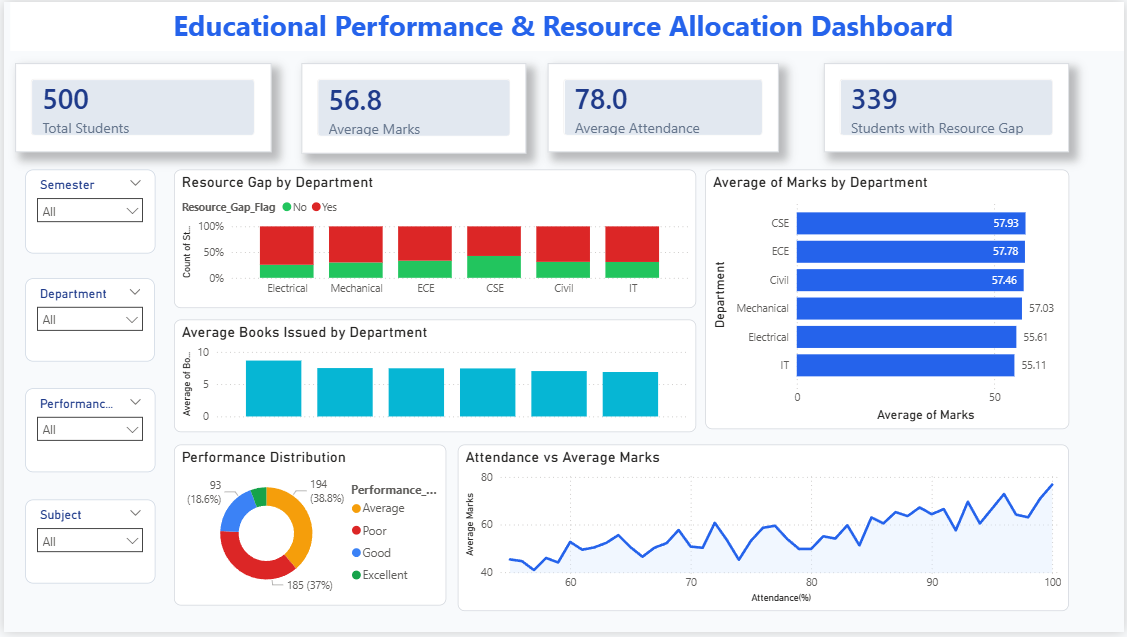

What the dashboard file says about the page in this screenshot:
{"tool":"powerbi","page":{"name":"Page 1","canvas":[1280,720],"ordinal":0},"visuals":[{"type":"cardVisual","fields":{"Data":["Educational_Performance_500_Records_Minimum_Requirement.Average Attendance"]},"box":[621.4,70,264.3,101.4],"z":0},{"type":"cardVisual","fields":{"Data":["Educational_Performance_500_Records_Minimum_Requirement.Average Marks"]},"box":[340,70,257.1,102.9],"z":1000},{"type":"cardVisual","fields":{"Data":["Educational_Performance_500_Records_Minimum_Requirement.Students with Resource Gap"]},"box":[937.1,70,280,101.4],"z":2000},{"type":"cardVisual","fields":{"Data":["Educational_Performance_500_Records_Minimum_Requirement.Total Students"]},"box":[12.9,70,292.9,101.4],"z":3000},{"type":"clusteredBarChart","fields":{"Category":["Educational_Performance_500_Records_Minimum_Requirement.Department"],"Y":["Avg(Educational_Performance_500_Records_Minimum_Requirement.Marks)"]},"box":[801.4,191.4,415.7,297.1],"z":4000},{"type":"donutChart","title":"Performance Distribution","fields":{"Category":["Educational_Performance_500_Records_Minimum_Requirement.Performance_Category"],"Y":["CountNonNull(Educational_Performance_500_Records_Minimum_Requirement.Student_ID)"]},"box":[194.3,505.7,311.4,184.3],"z":5000},{"type":"clusteredColumnChart","title":"Average Books Issued by Department","fields":{"Category":["Educational_Performance_500_Records_Minimum_Requirement.Department"],"Y":["Avg(Educational_Performance_500_Records_Minimum_Requirement.Books_Issued)"]},"box":[194,363,597,129],"z":6000},{"type":"hundredPercentStackedColumnChart","title":"Resource Gap by Department","fields":{"Category":["Educational_Performance_500_Records_Minimum_Requirement.Department"],"Series":["Educational_Performance_500_Records_Minimum_Requirement.Resource_Gap_Flag"],"Y":["CountNonNull(Educational_Performance_500_Records_Minimum_Requirement.Student_ID)"]},"box":[194,191,597,158],"z":7000},{"type":"lineChart","title":"Attendance vs Average Marks","fields":{"Category":["Educational_Performance_500_Records_Minimum_Requirement.Attendance(%)"],"Y":["Educational_Performance_500_Records_Minimum_Requirement.Average Marks"]},"box":[518.6,505.7,698.6,190],"z":8000},{"type":"slicer","fields":{"Values":["Educational_Performance_500_Records_Minimum_Requirement.Department"]},"box":[24.4,315.1,148,95],"z":9000},{"type":"slicer","fields":{"Values":["Educational_Performance_500_Records_Minimum_Requirement.Subject"]},"box":[24.3,568.6,148.6,95.7],"z":10000},{"type":"slicer","fields":{"Values":["Educational_Performance_500_Records_Minimum_Requirement.Performance_Category"]},"box":[24.3,441.4,148.6,95.7],"z":11000},{"type":"slicer","fields":{"Values":["Educational_Performance_500_Records_Minimum_Requirement.Semester"]},"box":[24.3,191.4,148.6,95.7],"z":12000},{"type":"textbox","box":[7.1,0,1272.9,55.7],"z":13000}]}

Visuals, with their boxes in screenshot pixels (x1, y1, x2, y2), scaled from the page's 1280x720 canvas onto the 1127x637 screenshot:
cardVisual - Educational_Performance_500_Records_Minimum_Requirement.Average Attendance: (547,62,780,152)
cardVisual - Educational_Performance_500_Records_Minimum_Requirement.Average Marks: (299,62,526,153)
cardVisual - Educational_Performance_500_Records_Minimum_Requirement.Students with Resource Gap: (825,62,1072,152)
cardVisual - Educational_Performance_500_Records_Minimum_Requirement.Total Students: (11,62,269,152)
clusteredBarChart - Educational_Performance_500_Records_Minimum_Requirement.Department x Avg(Educational_Performance_500_Records_Minimum_Requirement.Marks): (706,169,1072,432)
"Performance Distribution" donutChart: (171,447,445,610)
"Average Books Issued by Department" clusteredColumnChart: (171,321,696,435)
"Resource Gap by Department" hundredPercentStackedColumnChart: (171,169,696,309)
"Attendance vs Average Marks" lineChart: (457,447,1072,616)
slicer - Educational_Performance_500_Records_Minimum_Requirement.Department: (21,279,152,363)
slicer - Educational_Performance_500_Records_Minimum_Requirement.Subject: (21,503,152,588)
slicer - Educational_Performance_500_Records_Minimum_Requirement.Performance_Category: (21,391,152,475)
slicer - Educational_Performance_500_Records_Minimum_Requirement.Semester: (21,169,152,254)
textbox: (6,0,1126,49)
